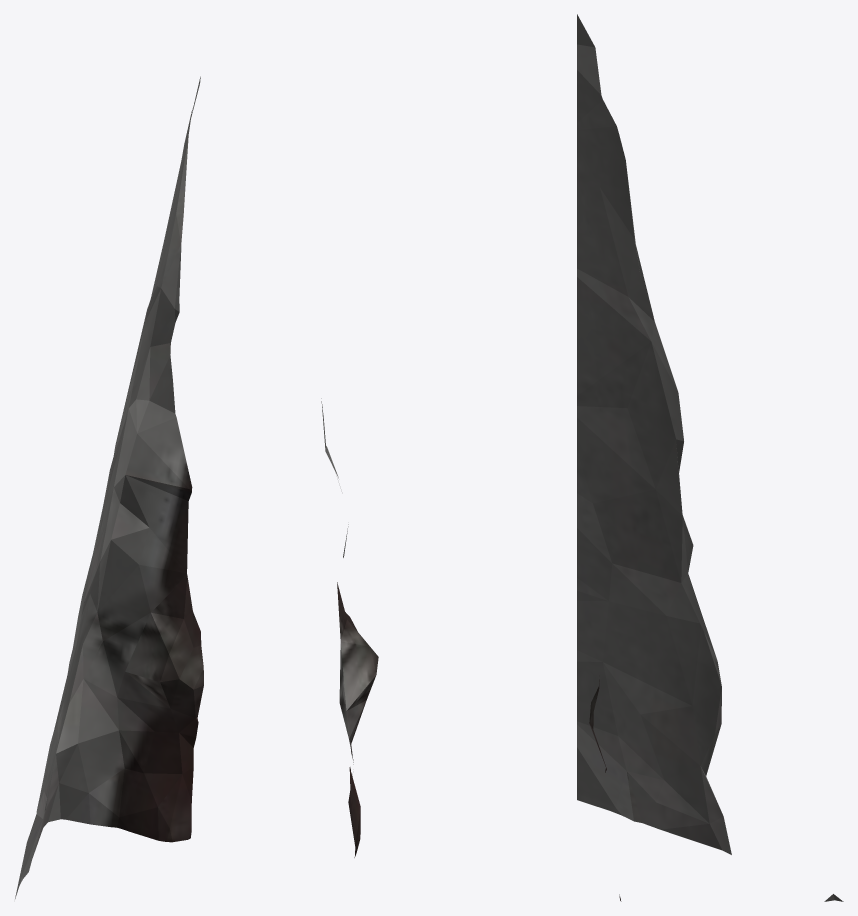
The picture shows the model from 3 angles, left to right: view 1: azimuth 30°, elevation 25°; view 2: azimuth 150°, elevation 25°; view 3: azimuth 270°, elevation 25°; orthographic projection. The views are drawn at different scales.
Bounding box in the file's own units: 0.1823 × 0.7412 × 0.2017.
Materials: 1 (1 with a texture image).
